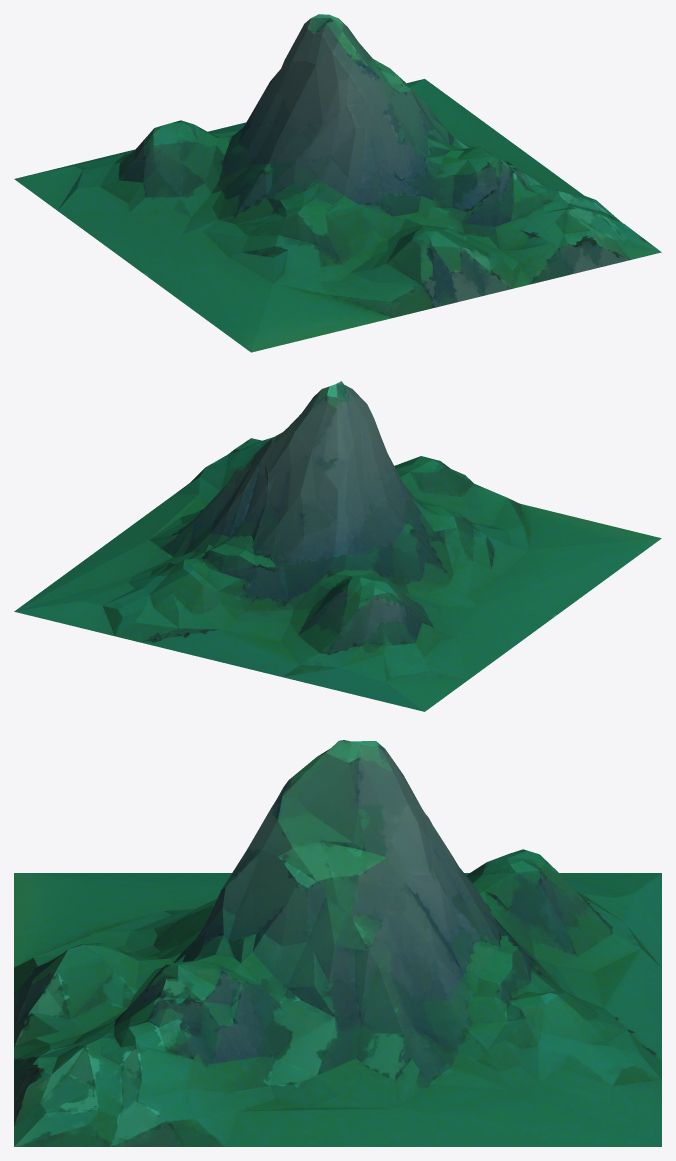
Rendered from mountain_varied.fbx.
The picture shows the model from 3 angles, top to bottom: view 1: azimuth 30°, elevation 25°; view 2: azimuth 150°, elevation 25°; view 3: azimuth 270°, elevation 25°; orthographic projection. The views are drawn at different scales.
Parts seen in each view (by area): view 1: mountain_varied; view 2: mountain_varied; view 3: mountain_varied.
Boxes of the visible parts, x1,y1,x2,y2 form: mountain_varied: (14, 14, 661, 352); mountain_varied: (14, 381, 661, 711); mountain_varied: (14, 740, 661, 1146).
Bounding box in the file's own units: 10 × 4.54 × 10.
